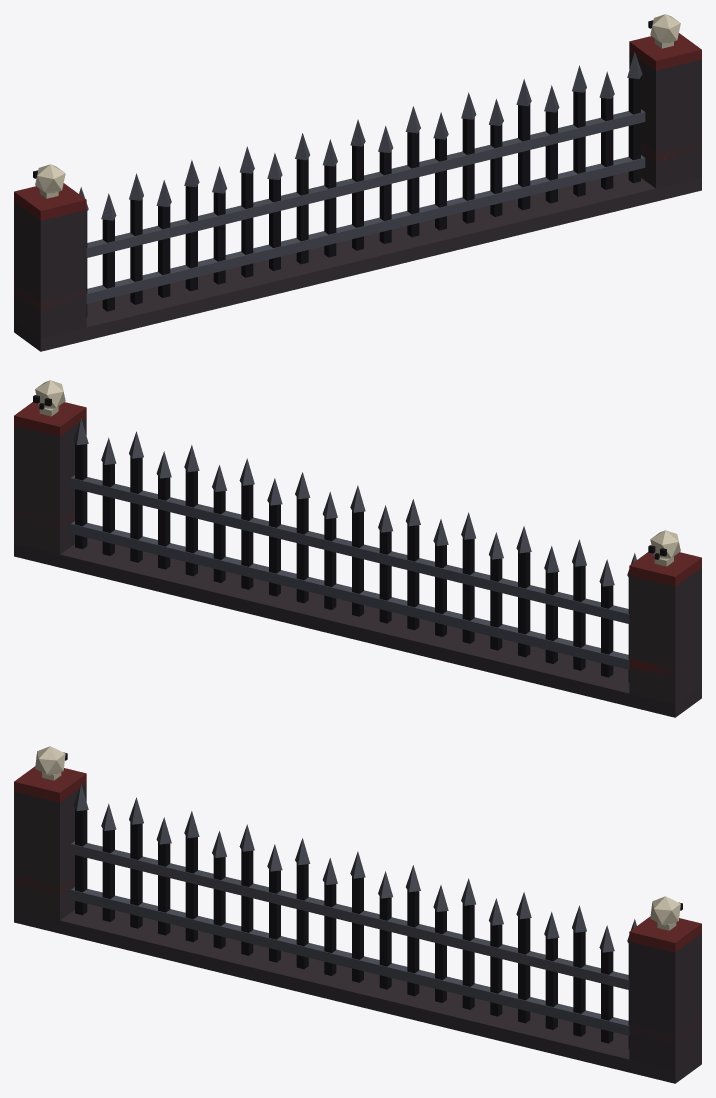
Rendered from Decor_HellGate_SpikeFence.fbx.
The picture shows the model from 3 angles, top to bottom: view 1: azimuth 30°, elevation 25°; view 2: azimuth 150°, elevation 25°; view 3: azimuth 330°, elevation 25°; orthographic projection.
Parts seen in each view (by area): view 1: SpikeFence_Body; view 2: SpikeFence_Body; view 3: SpikeFence_Body.
Part boxes in pixels (x1=…): SpikeFence_Body: x1=14, y1=14, x2=701, y2=351; SpikeFence_Body: x1=14, y1=380, x2=701, y2=717; SpikeFence_Body: x1=14, y1=746, x2=701, y2=1083.
Size of the model in its own units: 43 by 10.7 by 3.
